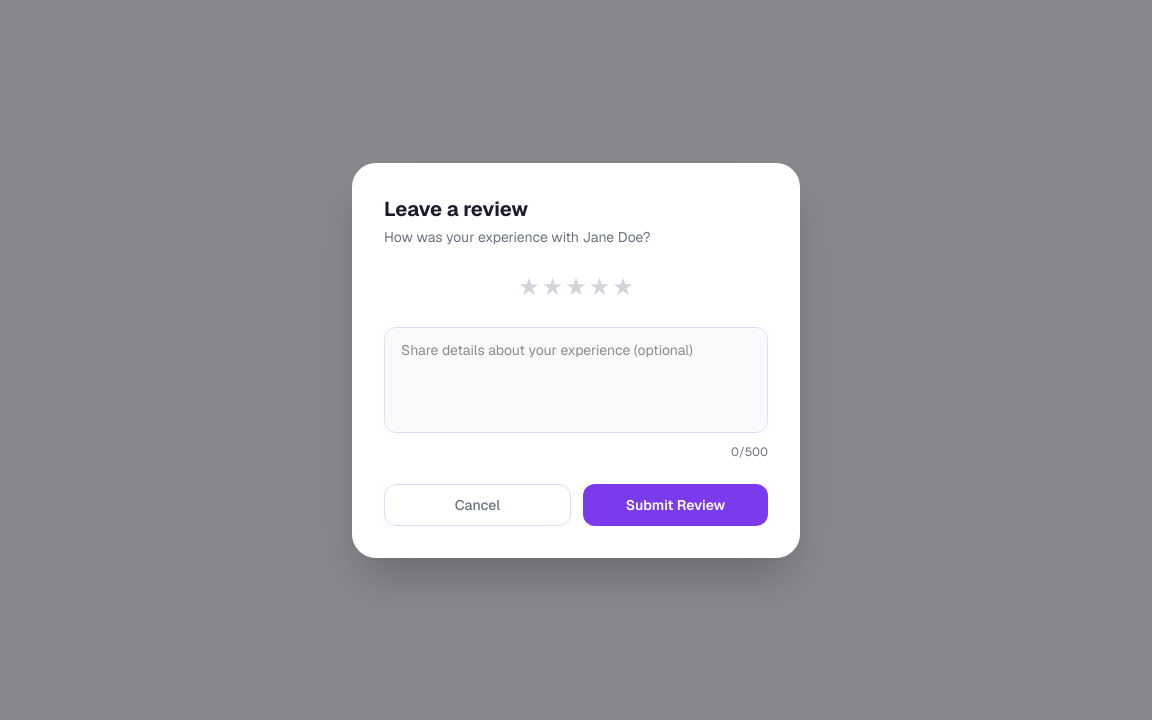
Test: ReviewModal › shows character count
expect the text "0/500" is shown: met, box [731,444,768,460]
Step 1. Type "Hello" into the text box with placeholder "Share details about your experience (optional)" → (576, 380), box [384,326,768,432]
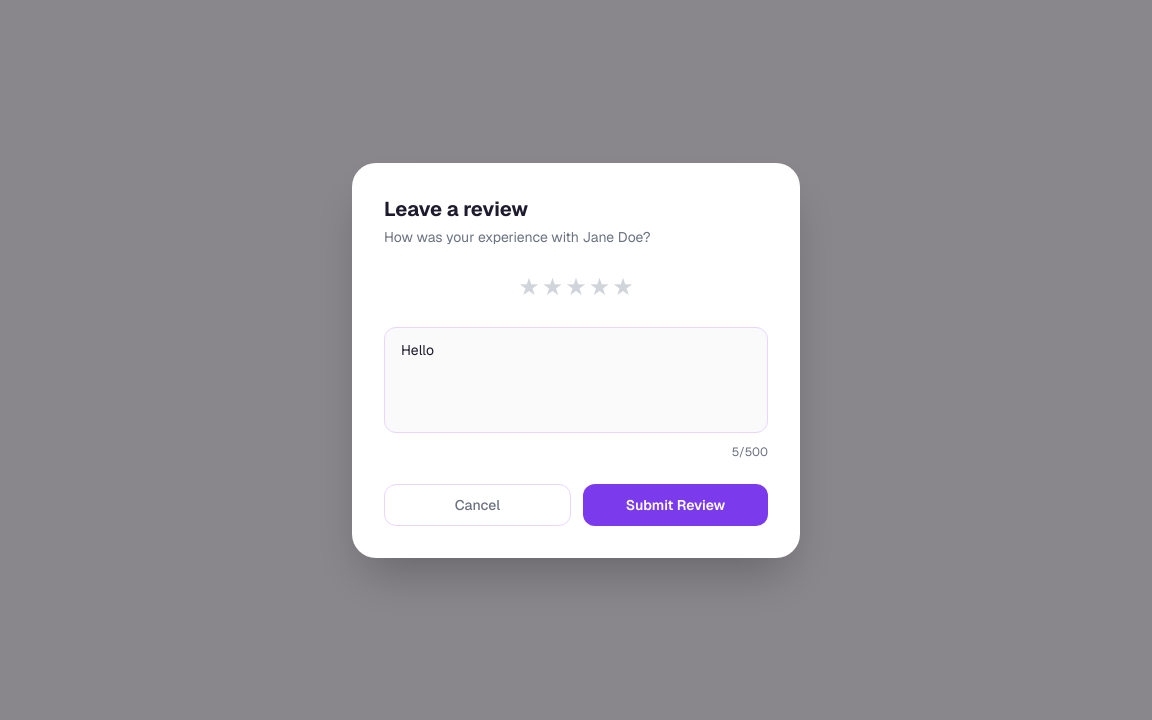
expect the text "5/500" is shown: met, box [732,444,768,460]
